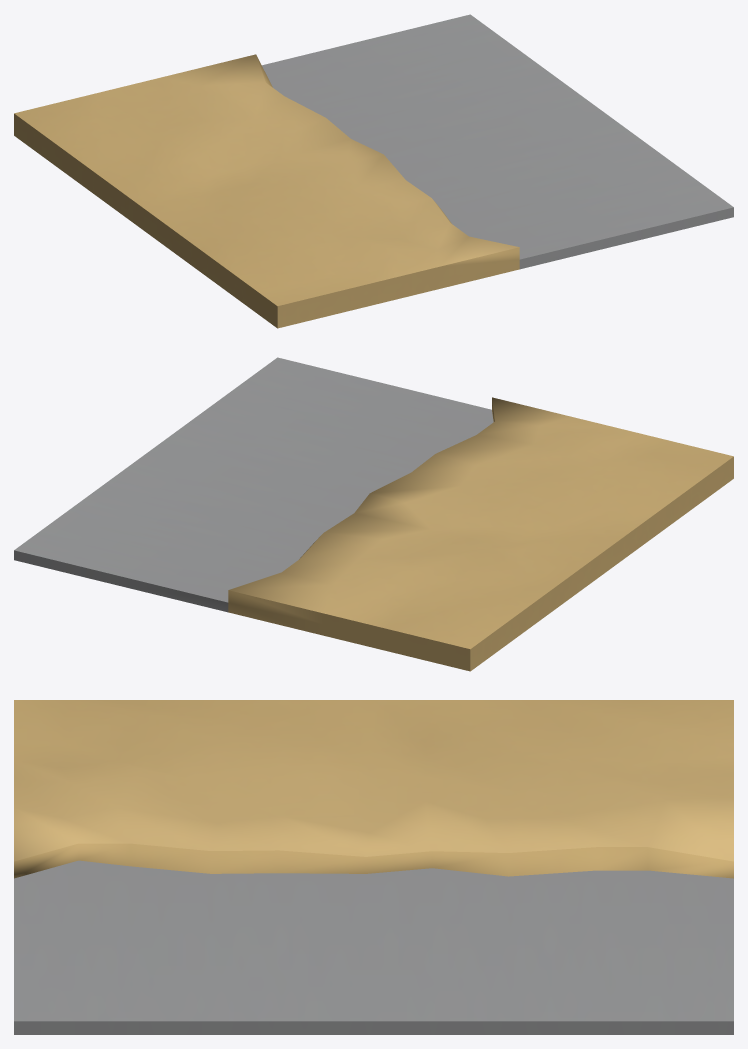
The model's file is ground_road_1_L.glb.
The picture shows the model from 3 angles, top to bottom: view 1: azimuth 30°, elevation 25°; view 2: azimuth 150°, elevation 25°; view 3: azimuth 270°, elevation 25°; orthographic projection. The views are drawn at different scales.
Visible parts, largest first — view 1: ground_road_1_L; view 2: ground_road_1_L; view 3: ground_road_1_L.
Part boxes in pixels (x1,y1,x2,y2): ground_road_1_L: [14, 14, 733, 328]; ground_road_1_L: [14, 357, 733, 671]; ground_road_1_L: [14, 700, 733, 1034].
Size of the model in its own units: 2 by 0.1193 by 2.
Materials: 1 (1 with a texture image).
